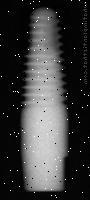Keystone Dental: (17, 5, 70, 191)
